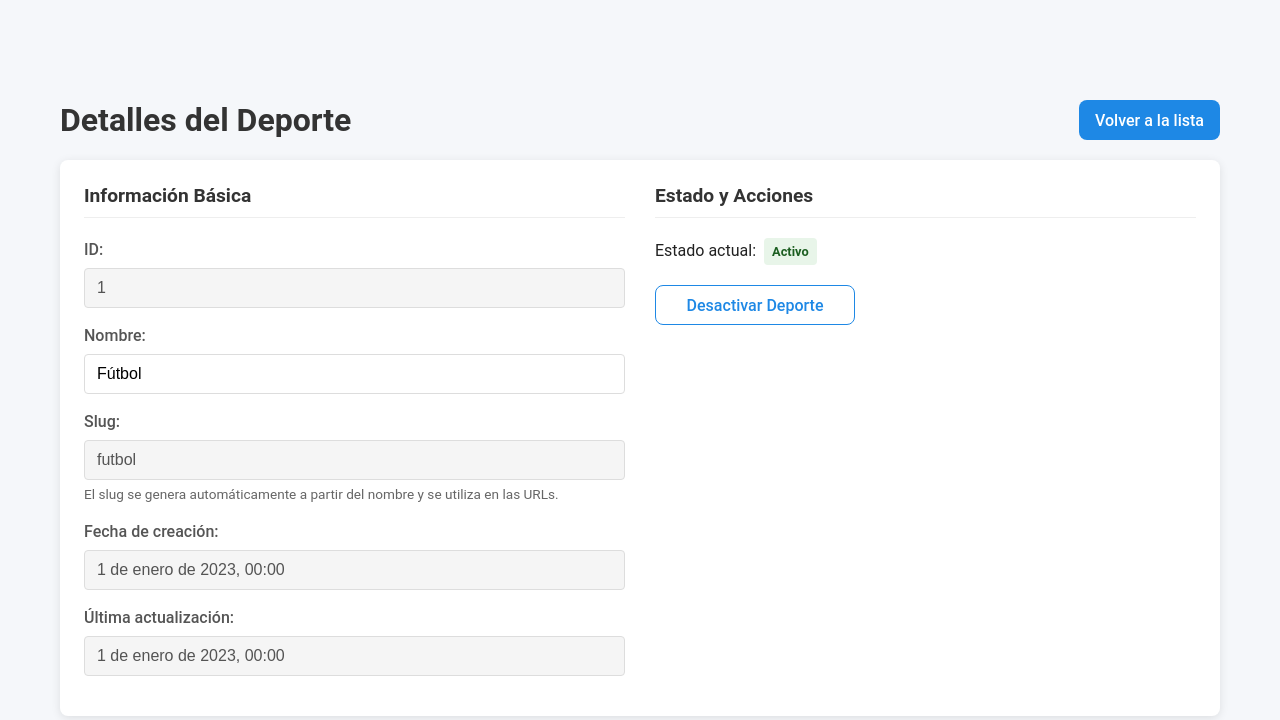
Test: SportDetail Component › updates sport name when saving changes
// Cambiar el nombre del deporte
Replace the text in the field showing "Fútbol" with "Fútbol Sala" at {"x": 354, "y": 374}, box [84,354,625,394]
(page scrolled)
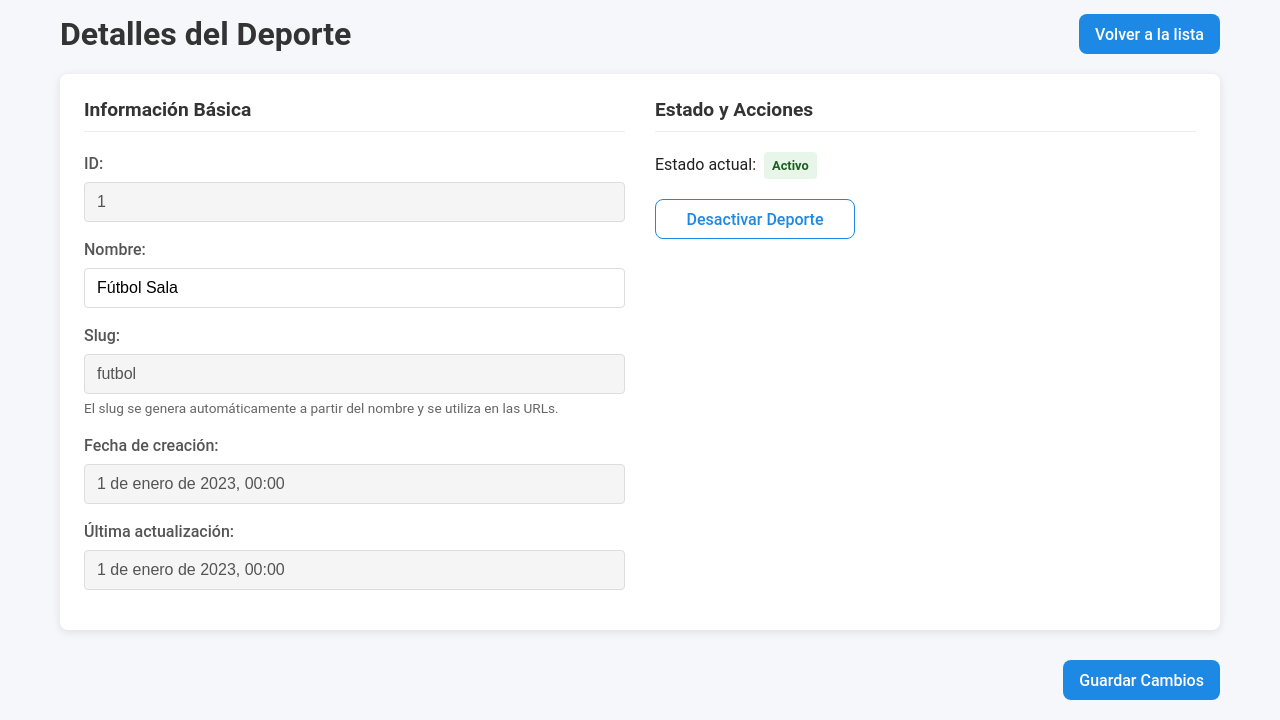
// Guardar los cambios
Click the button "Guardar Cambios" at {"x": 1142, "y": 680}, box [1063,660,1220,700]
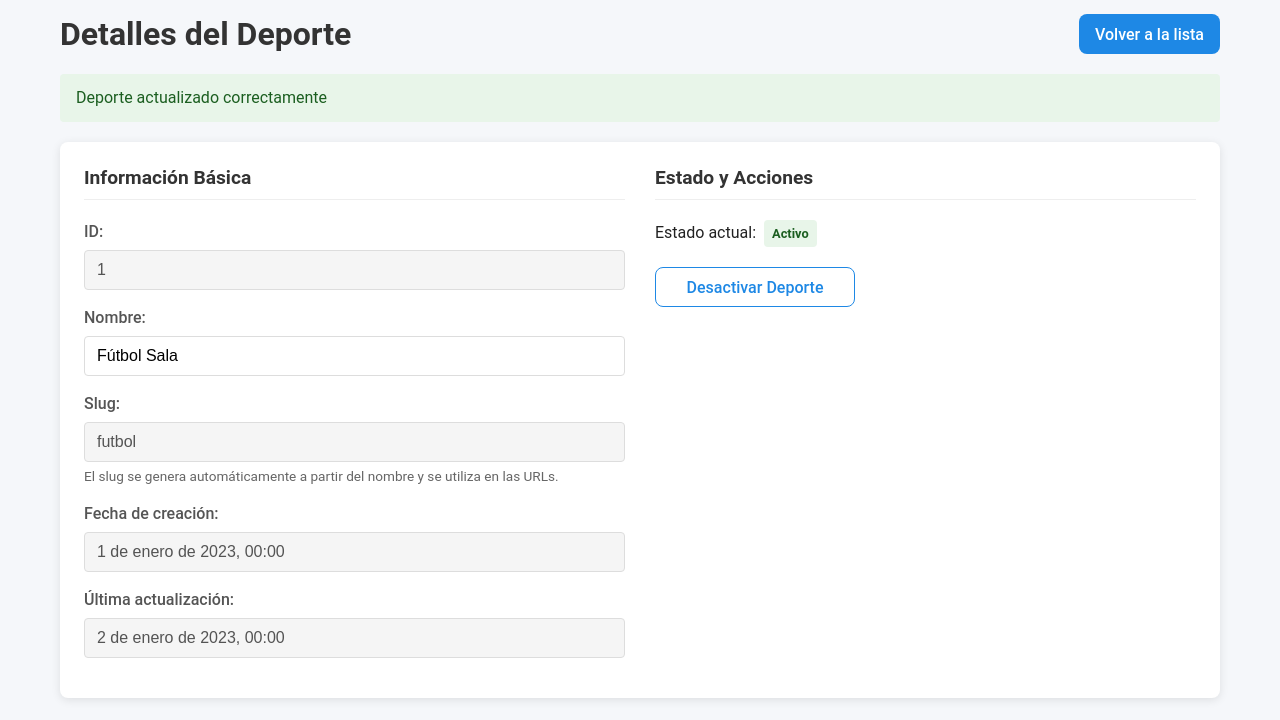
Now the text "Deporte actualizado correctamente" is shown, box [60,74,1220,122]
